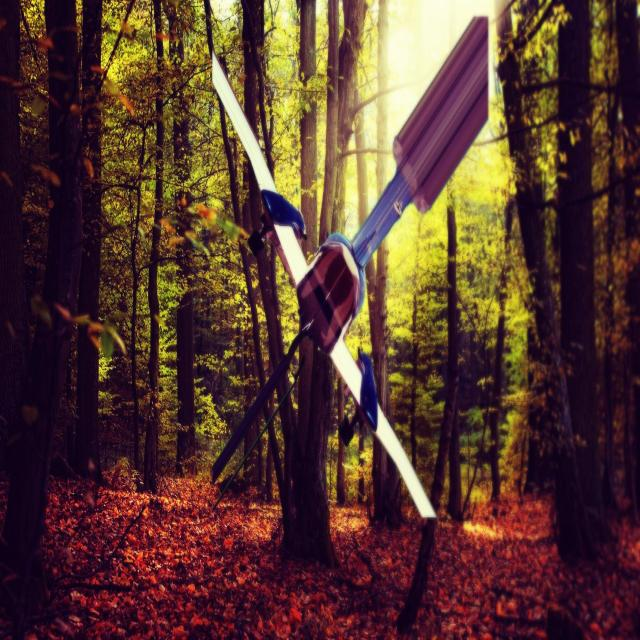airplane: (206, 15, 489, 521)
